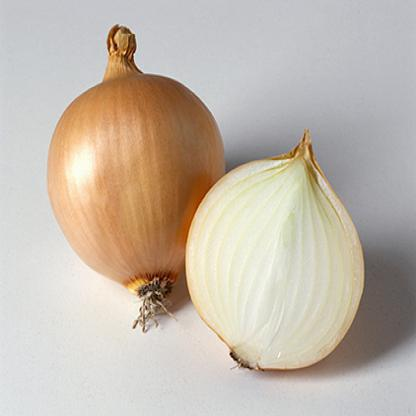onion: (186, 148, 360, 374), (47, 63, 202, 286)
